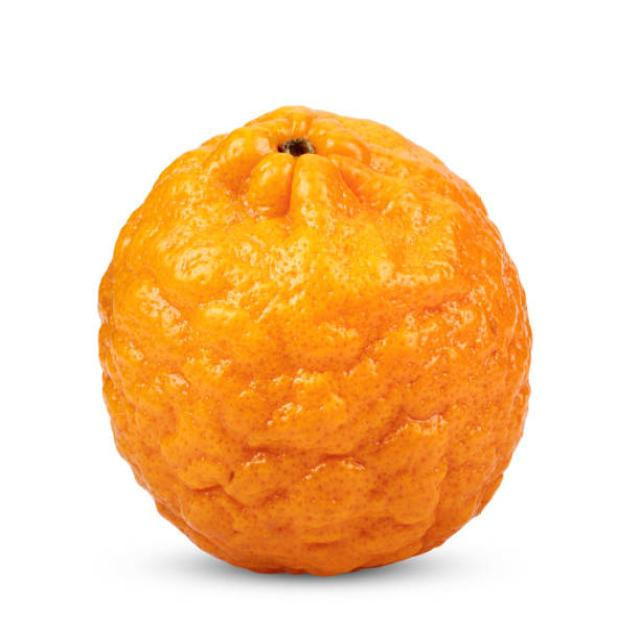overripe: (94, 97, 537, 586)
